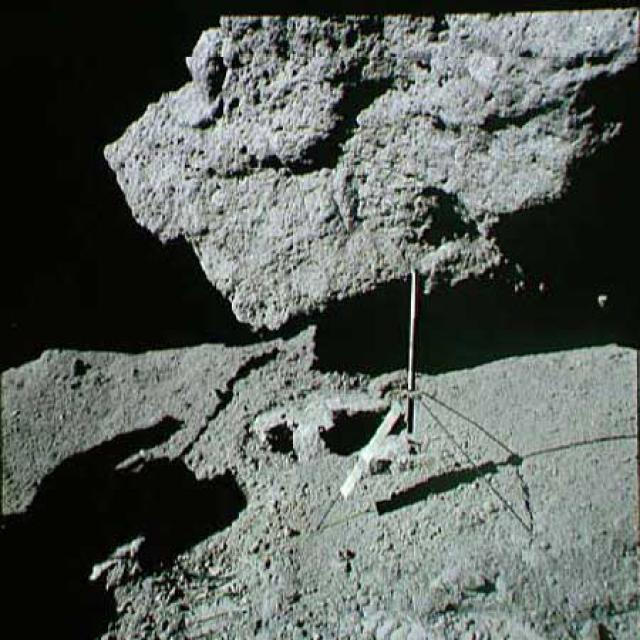artifact: (313, 259, 521, 542)
rock: (94, 10, 638, 331)
